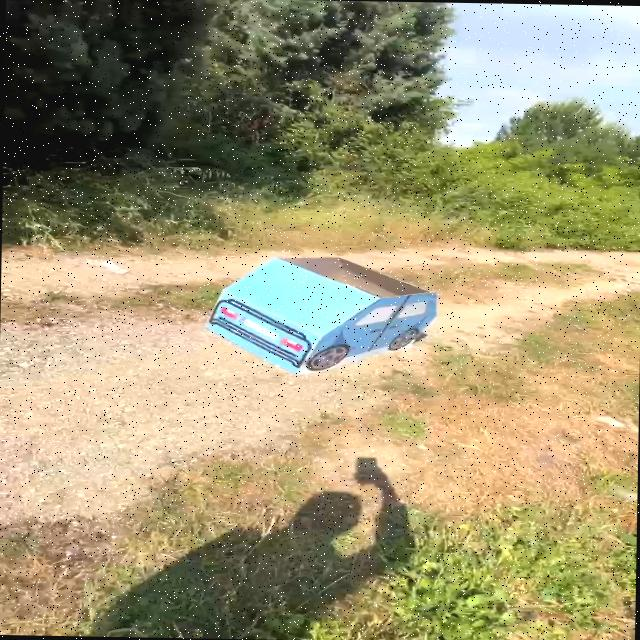blue_car: (171, 245, 449, 379)
